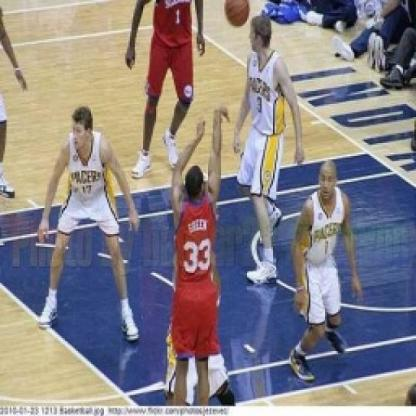basketball: (218, 0, 255, 31)
